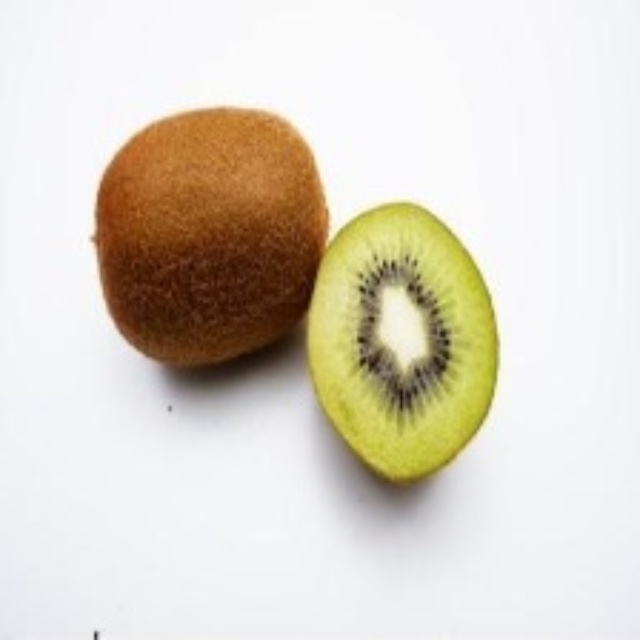kiwi: (89, 111, 338, 361), (320, 204, 496, 485)
